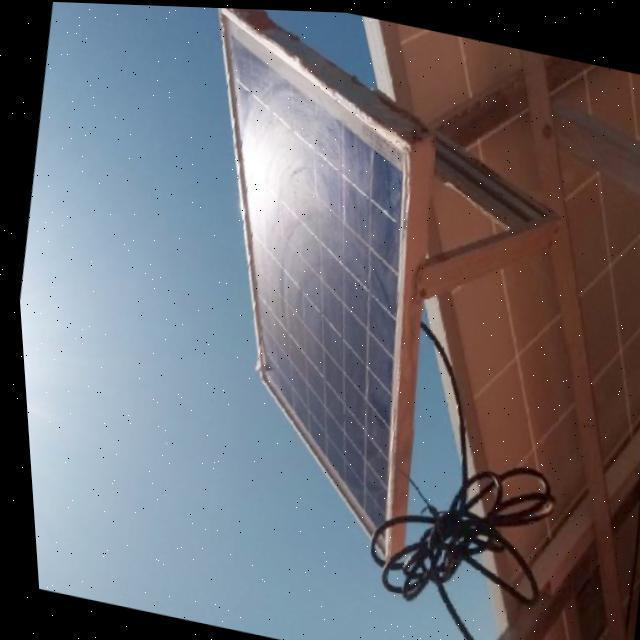Normal Solar Panel: (124, 4, 467, 562)
